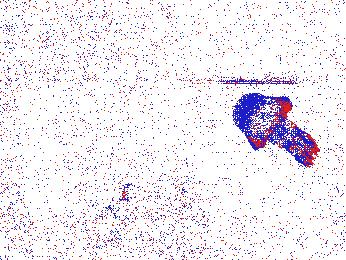flame jellyfish: (241, 95, 318, 166), (62, 191, 116, 240), (103, 183, 149, 229)
